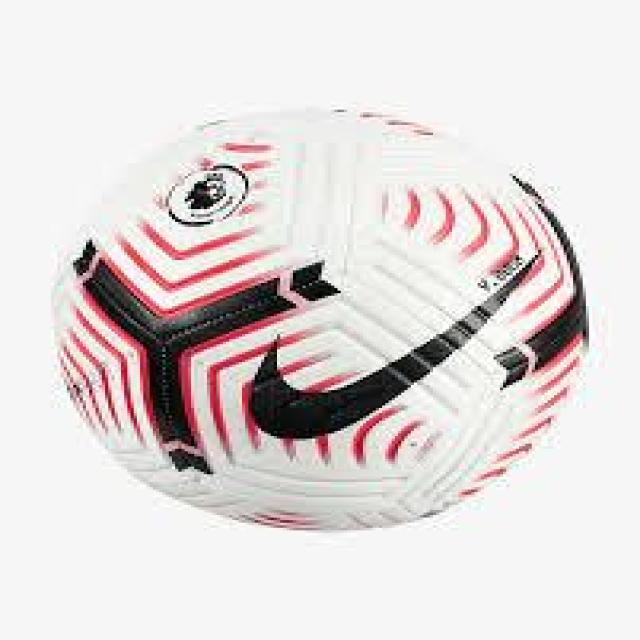Soccer Ball: (54, 107, 596, 538)
